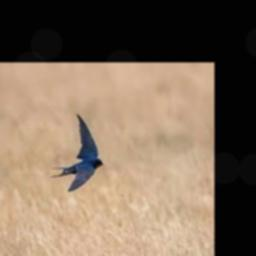Swallow: (52, 113, 103, 190)
